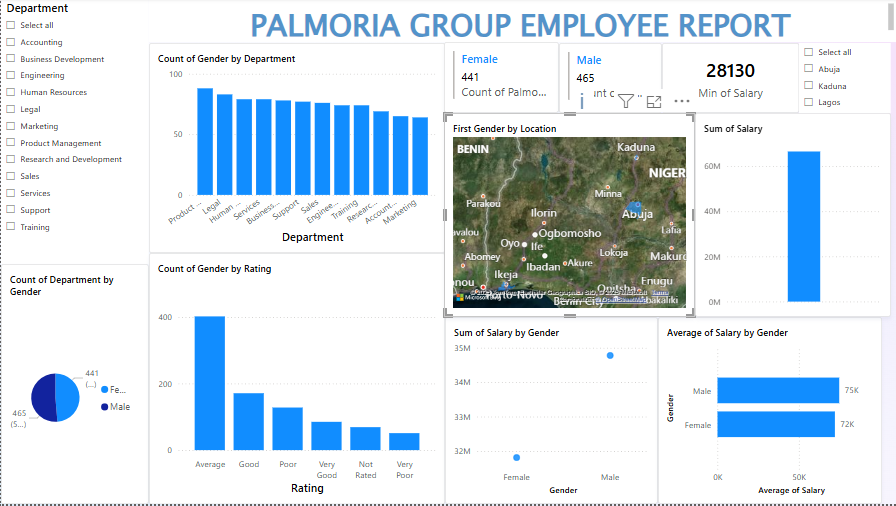

The dashboard page shown, as its layout file describes it:
{"tool":"powerbi","page":{"name":"Page 1","canvas":[1280,720],"ordinal":0},"visuals":[{"type":"columnChart","fields":{"Category":["Palmoria Group emp-data.Department"],"Y":["CountNonNull(Palmoria Group emp-data.Gender)"]},"box":[211.4,61.4,422.9,300],"z":0},{"type":"slicer","fields":{"Values":["Palmoria Group emp-data.Department"]},"box":[0,0,211.4,377.1],"z":1000},{"type":"pieChart","fields":{"Series":["Palmoria Group emp-data.Gender"],"Y":["CountNonNull(Palmoria Group emp-data.Department)"]},"box":[0,377.1,211.4,342.9],"z":2000},{"type":"lineClusteredColumnComboChart","fields":{"Y":["CountNonNull(Palmoria Group emp-data.Gender)"],"Category":["Palmoria Group emp-data.Rating"]},"box":[211.4,361.4,422.9,358.6],"z":3000},{"type":"scatterChart","fields":{"Y":["Sum(Palmoria Group emp-data.Salary)"],"X":["Palmoria Group emp-data.Gender"]},"box":[634.3,452.9,304.3,267.1],"z":4000},{"type":"textbox","box":[211.4,0,1068.6,60],"z":5000},{"type":"multiRowCard","fields":{"Values":["Count(Palmoria Group emp-data)","Palmoria Group emp-data.Gender"]},"box":[632.9,60,164.3,101.4],"z":6000},{"type":"multiRowCard","fields":{"Values":["Count(Palmoria Group emp-data)","Palmoria Group emp-data.Gender"]},"box":[797.1,61.4,147.1,100],"z":7000},{"type":"clusteredBarChart","fields":{"Category":["Palmoria Group emp-data.Gender"],"Y":["Avg(Palmoria Group emp-data.Salary)"]},"box":[938.6,452.9,320,267.1],"z":8000},{"type":"card","fields":{"Values":["Min(Palmoria Group emp-data.Salary)"]},"box":[944.3,61.4,195.7,100],"z":9000},{"type":"filledMap","fields":{"X":["Min(Palmoria Group emp-data.Gender)"],"Category":["Palmoria Group emp-data.Location"]},"box":[632.9,161.4,358.6,291.4],"z":10000},{"type":"slicer","fields":{"Values":["Palmoria Group emp-data.Location"]},"box":[1140,61.4,131.4,100],"z":11001},{"type":"clusteredColumnChart","fields":{"Y":["Sum(Palmoria Group emp-data.Salary)"]},"box":[991.4,161.4,280,291.4],"z":11501}]}

Visuals, with their boxes in screenshot pixels (x1, y1, x2, y2), scaled from the page's 1280x720 canvas onto the 896x506 screenshot:
columnChart - Palmoria Group emp-data.Department x CountNonNull(Palmoria Group emp-data.Gender): <bbox>148, 43, 444, 254</bbox>
slicer - Palmoria Group emp-data.Department: <bbox>0, 0, 148, 265</bbox>
pieChart - Palmoria Group emp-data.Gender x CountNonNull(Palmoria Group emp-data.Department): <bbox>0, 265, 148, 505</bbox>
lineClusteredColumnComboChart - CountNonNull(Palmoria Group emp-data.Gender) x Palmoria Group emp-data.Rating: <bbox>148, 254, 444, 505</bbox>
scatterChart - Sum(Palmoria Group emp-data.Salary) x Palmoria Group emp-data.Gender: <bbox>444, 318, 657, 505</bbox>
textbox: <bbox>148, 0, 895, 42</bbox>
multiRowCard - Count(Palmoria Group emp-data) x Palmoria Group emp-data.Gender: <bbox>443, 42, 558, 113</bbox>
multiRowCard - Count(Palmoria Group emp-data) x Palmoria Group emp-data.Gender: <bbox>558, 43, 661, 113</bbox>
clusteredBarChart - Palmoria Group emp-data.Gender x Avg(Palmoria Group emp-data.Salary): <bbox>657, 318, 881, 505</bbox>
card - Min(Palmoria Group emp-data.Salary): <bbox>661, 43, 798, 113</bbox>
filledMap - Min(Palmoria Group emp-data.Gender) x Palmoria Group emp-data.Location: <bbox>443, 113, 694, 318</bbox>
slicer - Palmoria Group emp-data.Location: <bbox>798, 43, 890, 113</bbox>
clusteredColumnChart - Sum(Palmoria Group emp-data.Salary): <bbox>694, 113, 890, 318</bbox>
